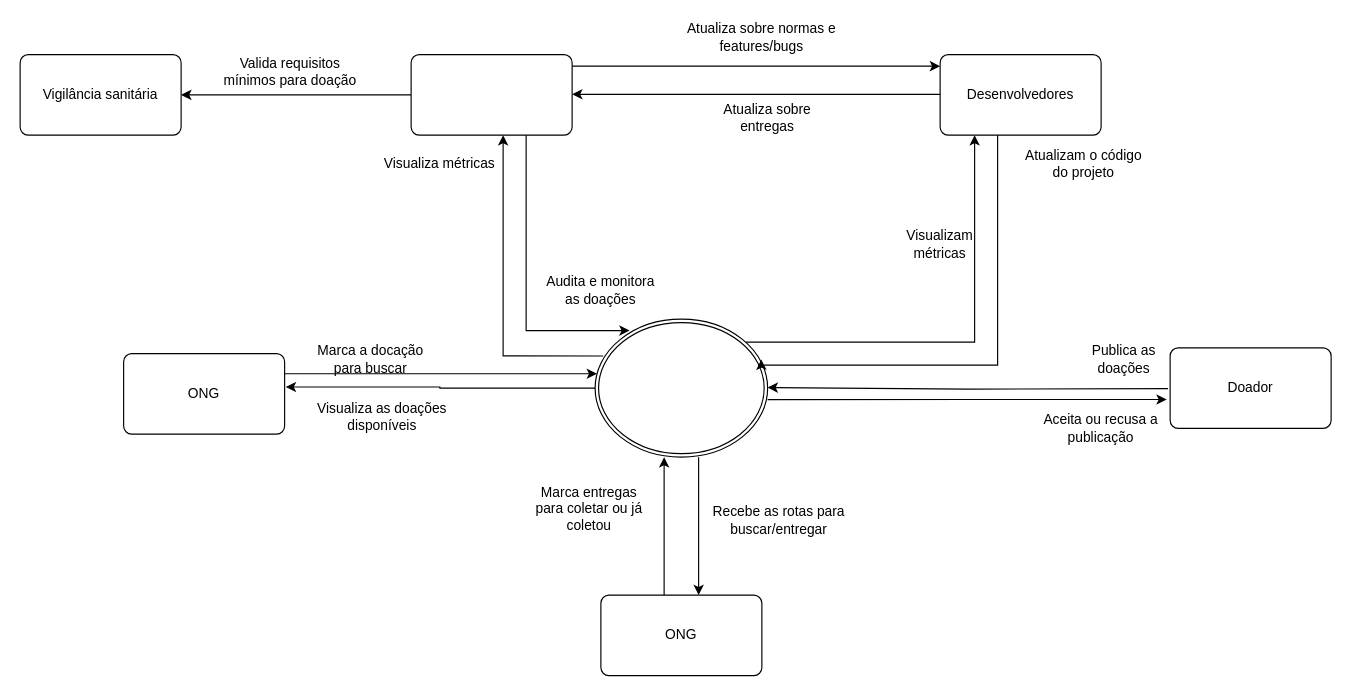
This 1351x696 diagram has some shape labels left out. The shapes that lost their labels are listed below. From the top down, each one's centre as x and y in pixels, then its label:
At (x=491, y=94): "Marta".
At (x=681, y=387): "Prato Cheio".
